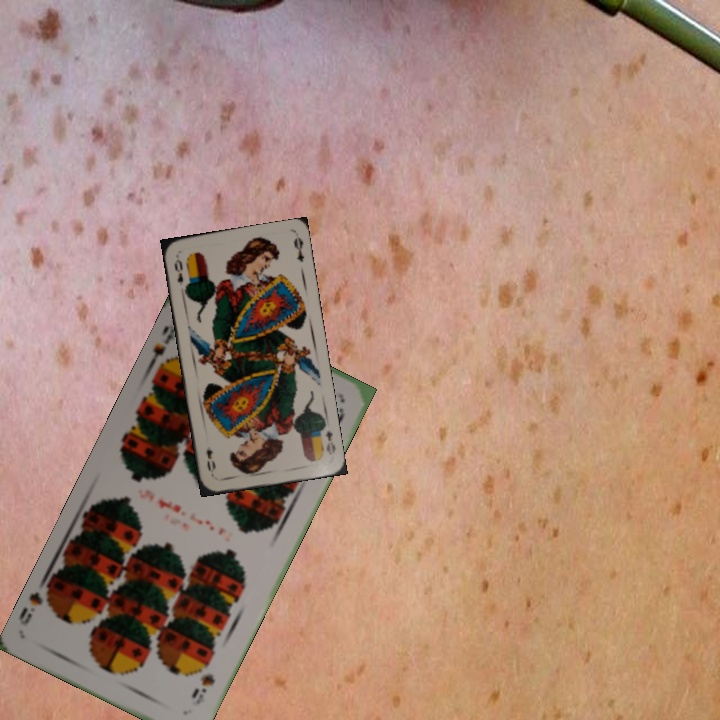EO: (170, 255, 190, 292), (321, 427, 338, 457)
S9: (144, 316, 178, 374), (187, 670, 218, 708)
